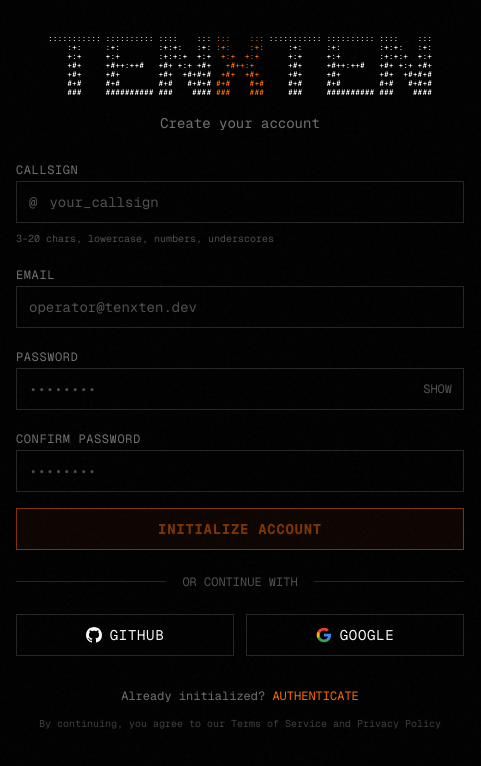
Signup Page › should show passwords do not match error
This screenshot has width=481, height=766.
Type "Password123!" into the password field labelled "Password" at (240, 388), box [16,368,464,410]
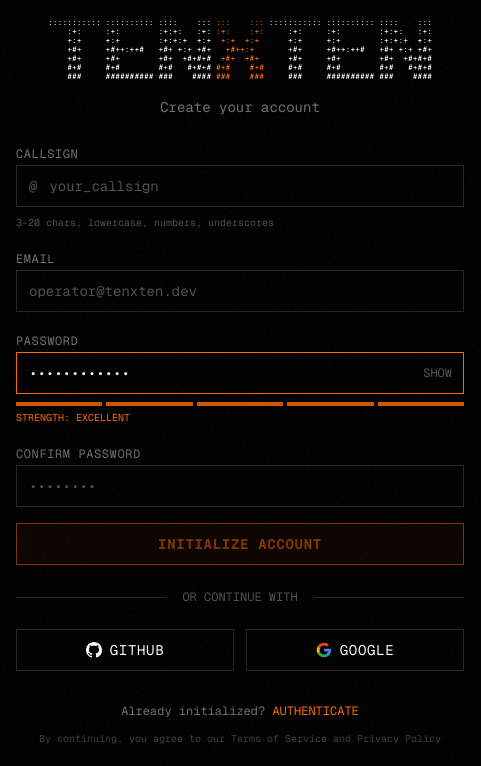
Type "DifferentPassword!" into the password field labelled "Confirm Password" at (240, 486), box [16,465,464,507]
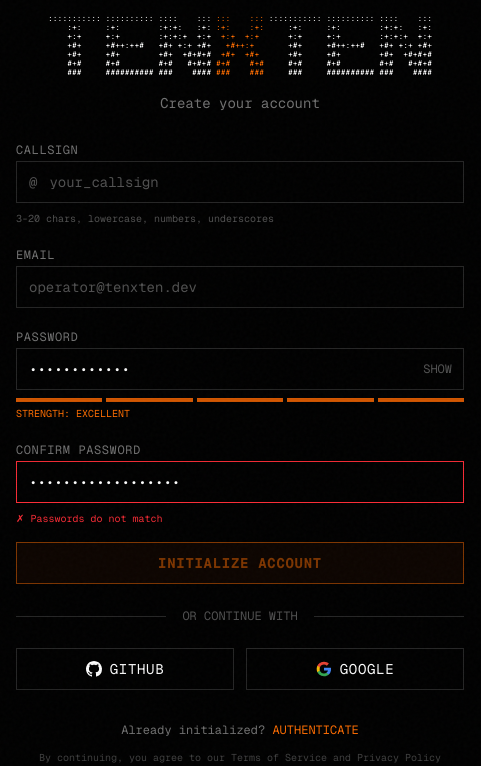
Check: the text "✗ Passwords do not match" is shown, box [16,512,162,525]
